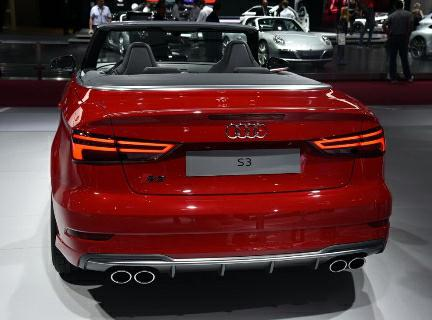奥迪-S3: (38, 15, 404, 300)
